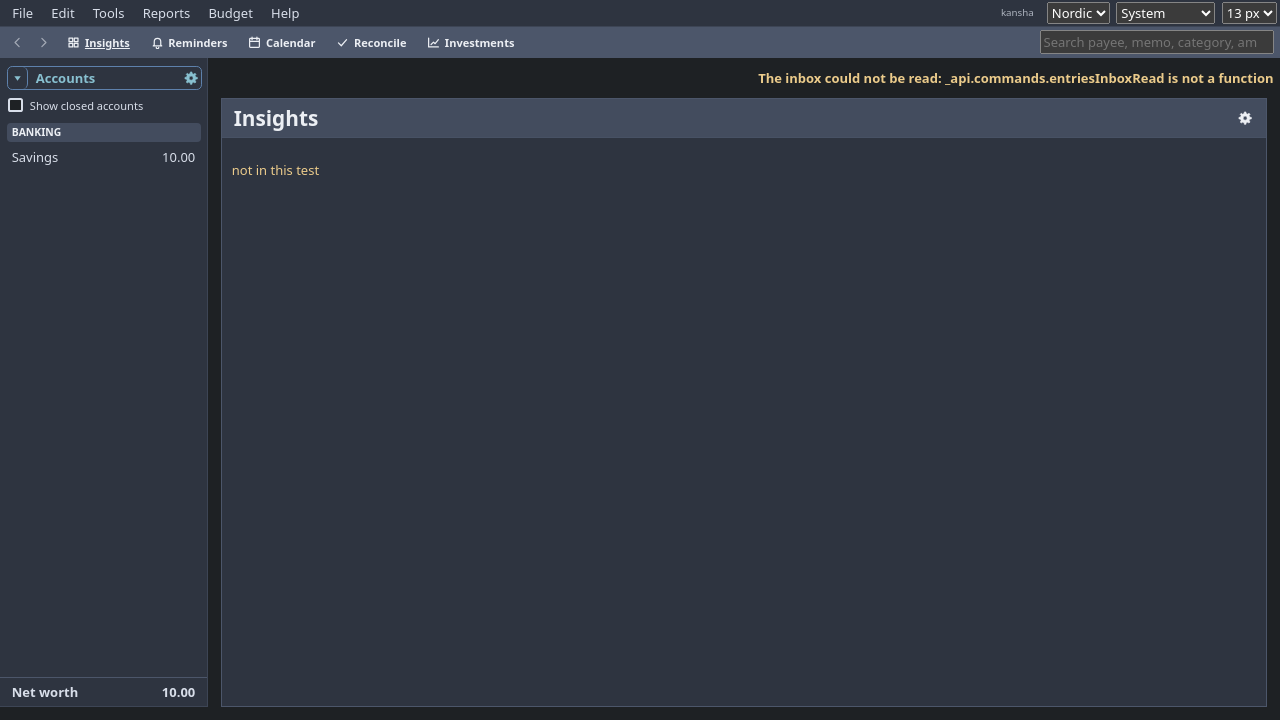
App shell › opens Settings and the Accounts list from the menus
Step 1. Click the button "Edit" → (63,13), box [42,0,84,26]
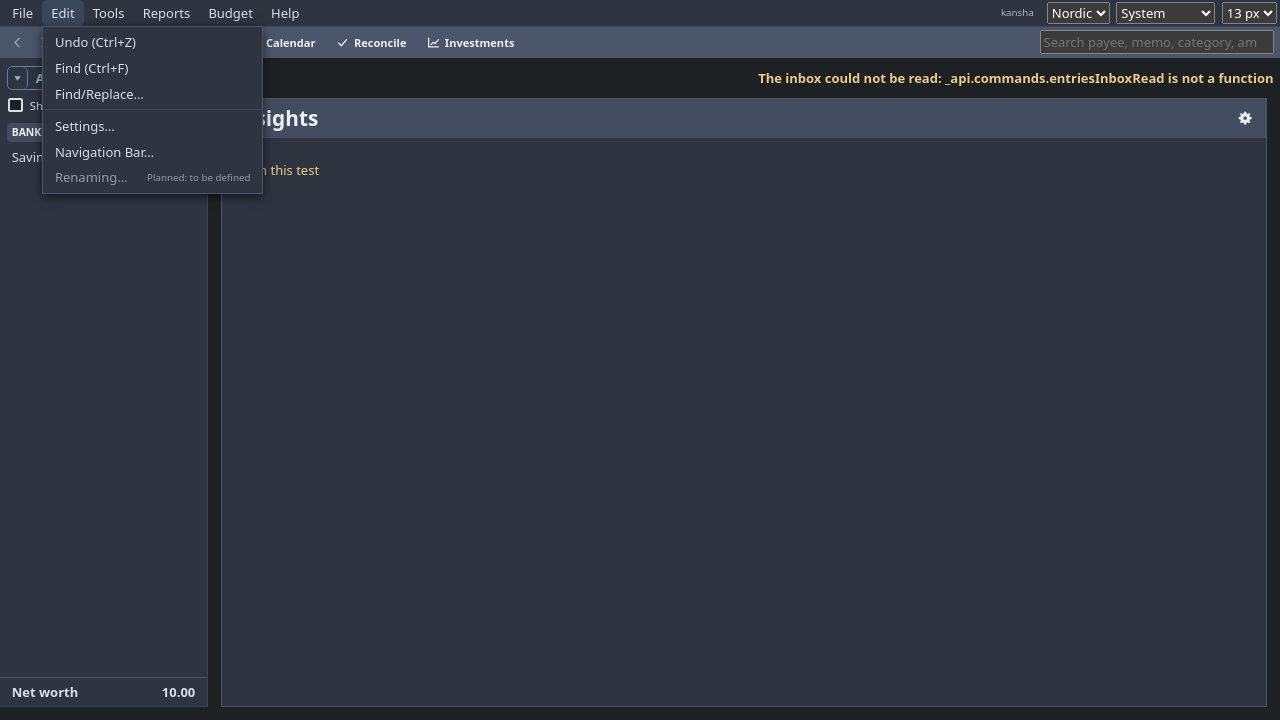
Step 2. Click the menu item "Settings…" → (153,126), box [43,113,262,139]
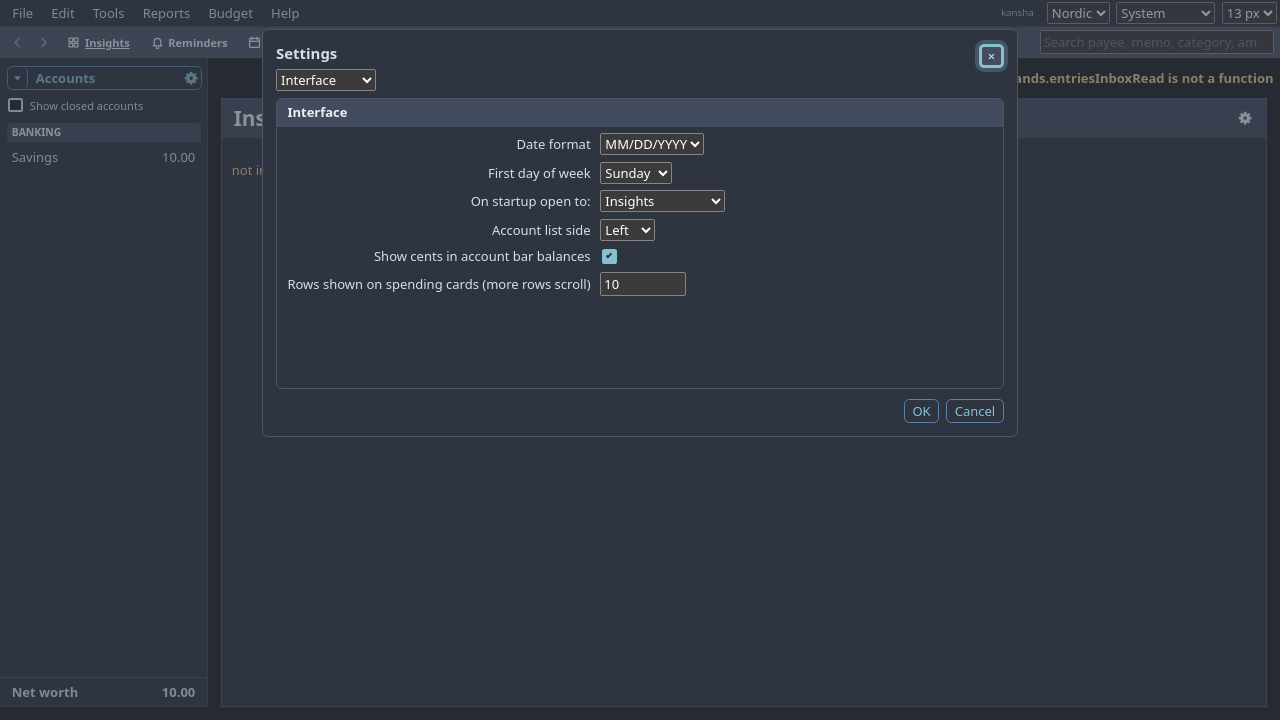
Step 3. Click the button named "Close" → (992,56), box [979,44,1004,68]
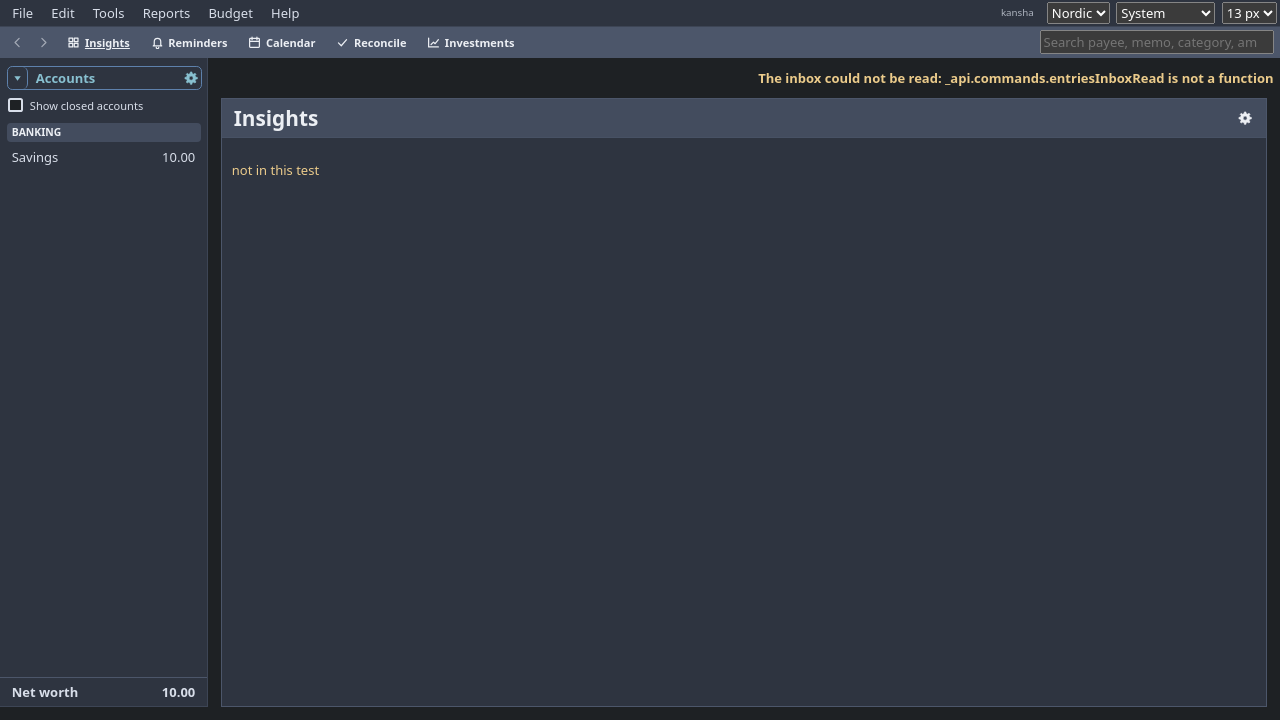
Step 4. Click the button "Tools" → (109,13), box [84,0,134,26]
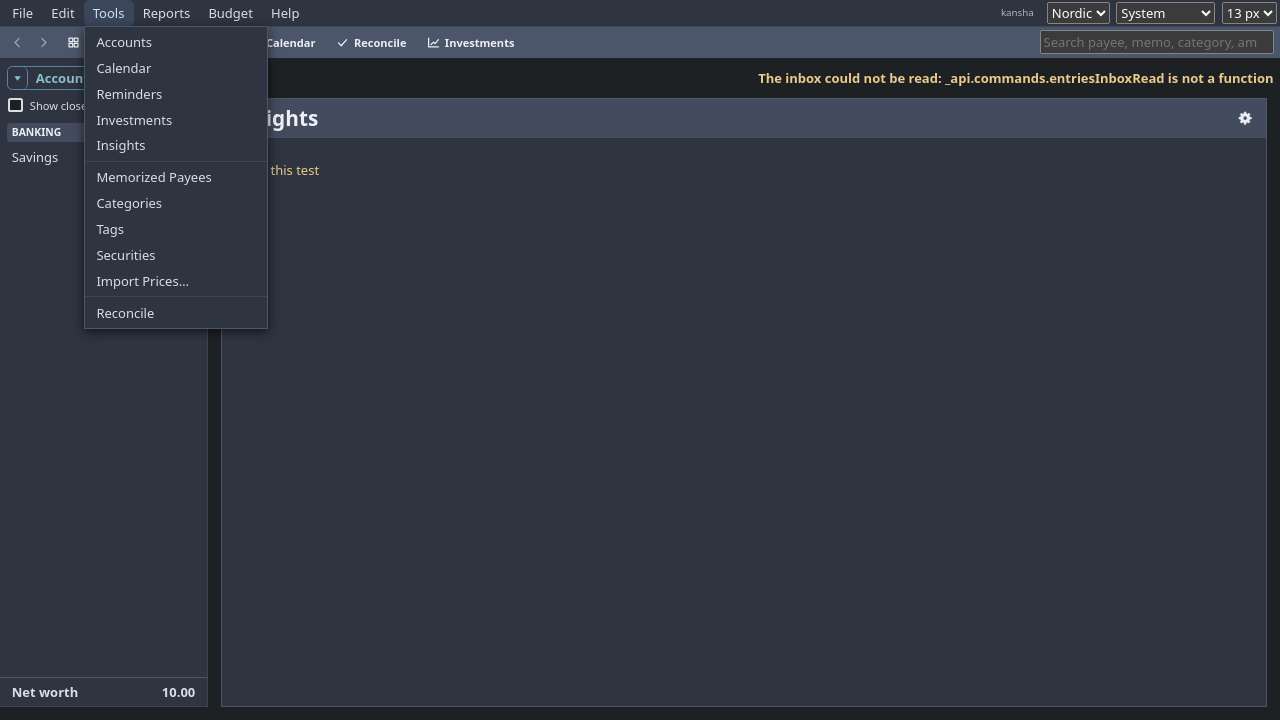
Step 5. Click the menu item "Accounts" → (176,42), box [85,29,267,55]
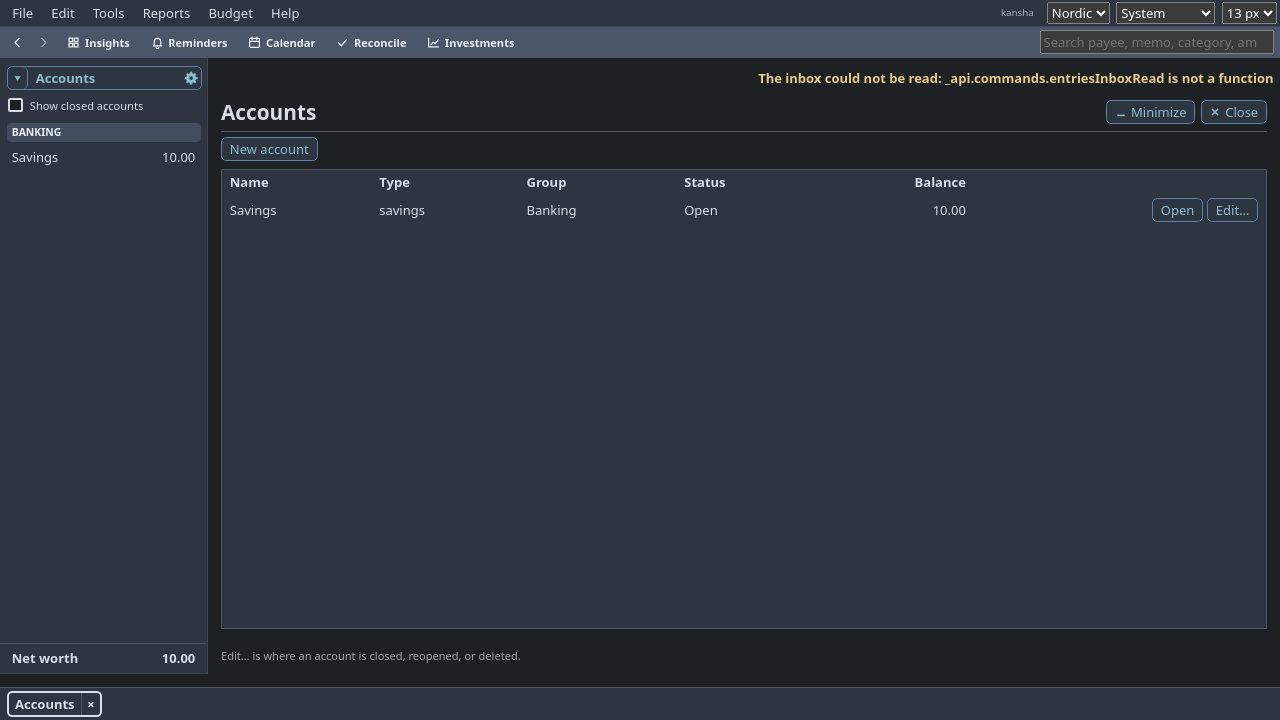
Expected: the heading "Accounts" is shown, [221,98,316,126]
Expected: the button with aria-label "Edit Savings" is shown, [1207,198,1258,222]
